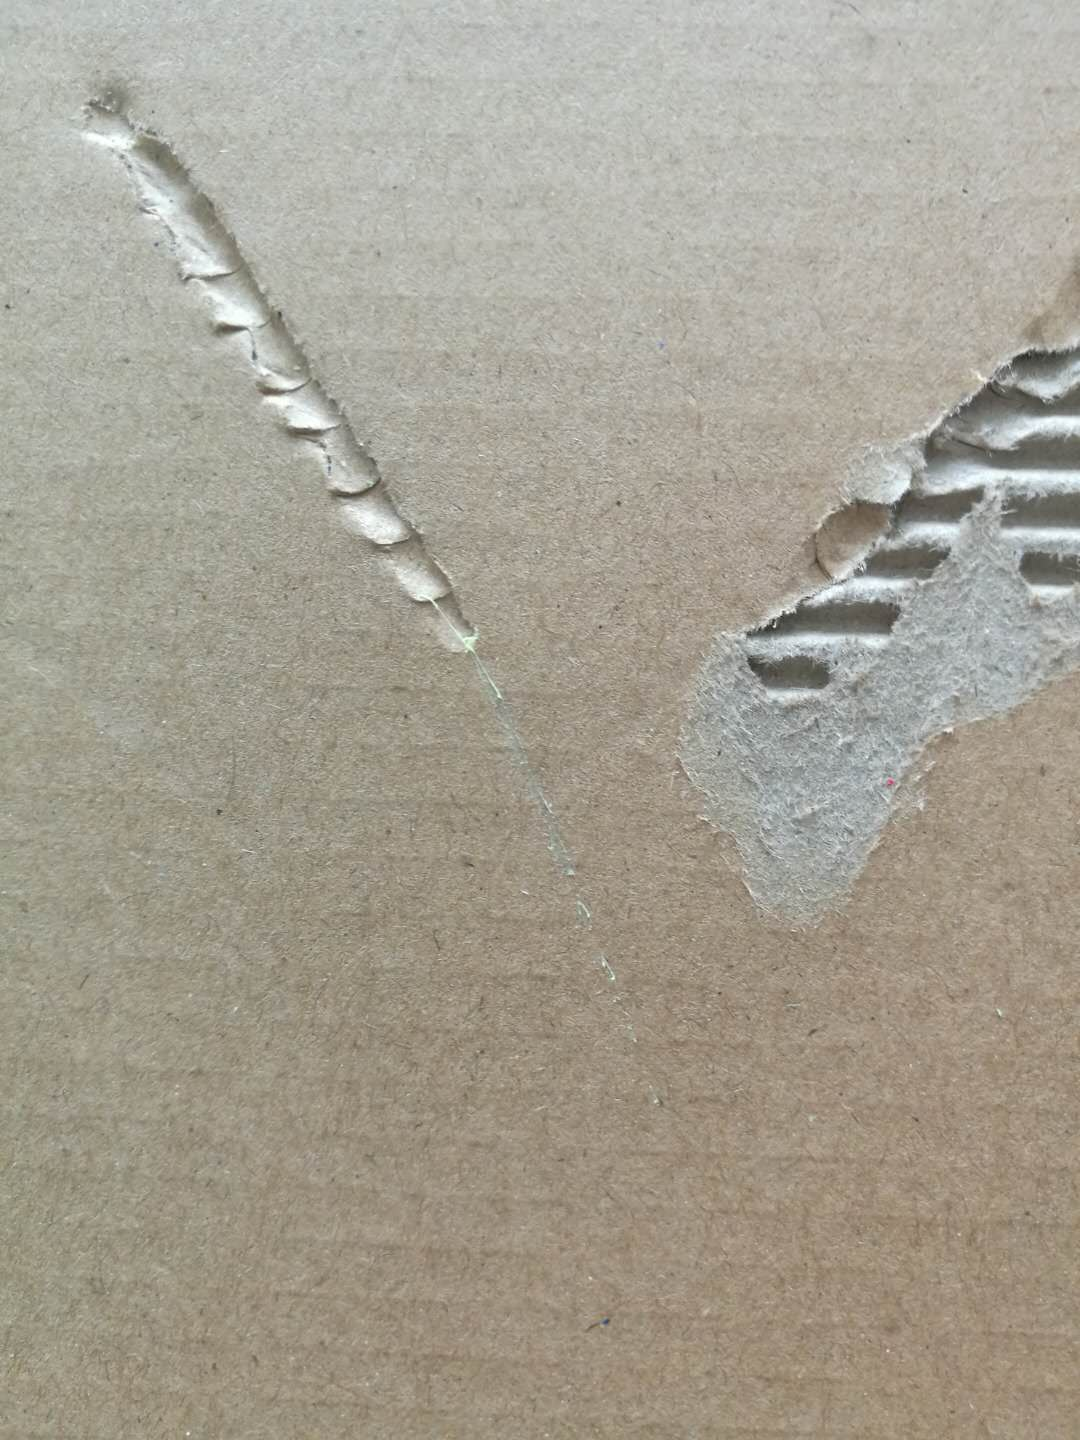defect: (47, 68, 669, 1112), (663, 239, 1080, 969)
